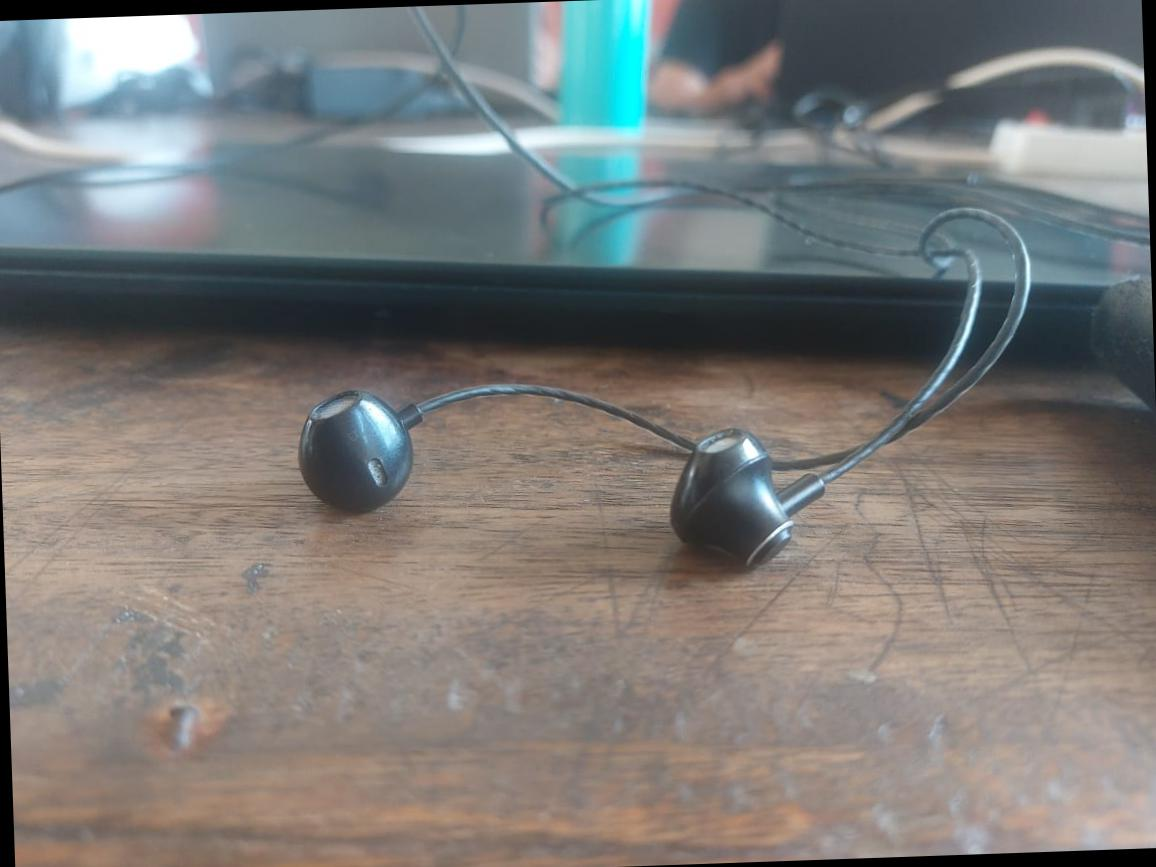Earphone: (645, 414, 846, 587), (286, 364, 436, 532)
